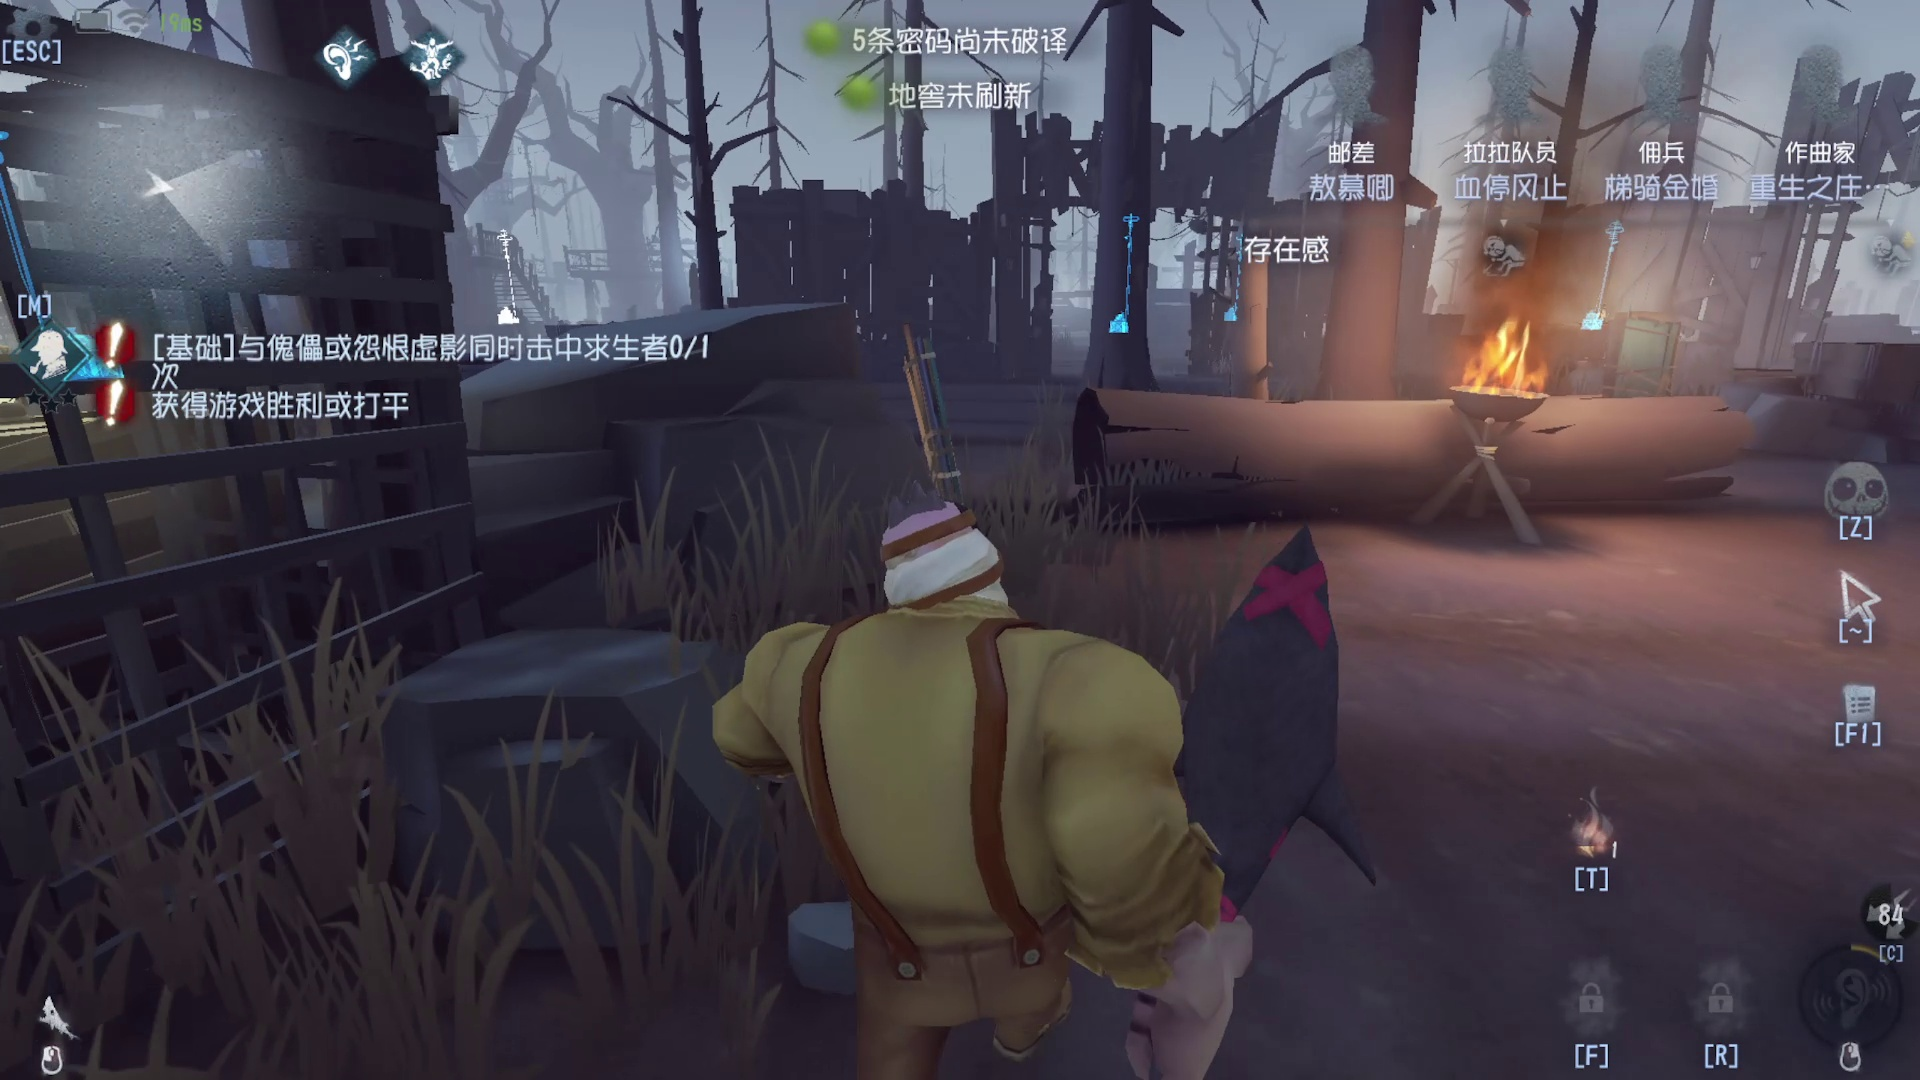密码机: (1075, 189, 1163, 351), (1584, 195, 1647, 349), (462, 219, 525, 340), (1215, 216, 1261, 336)
木板: (870, 316, 1002, 530)
